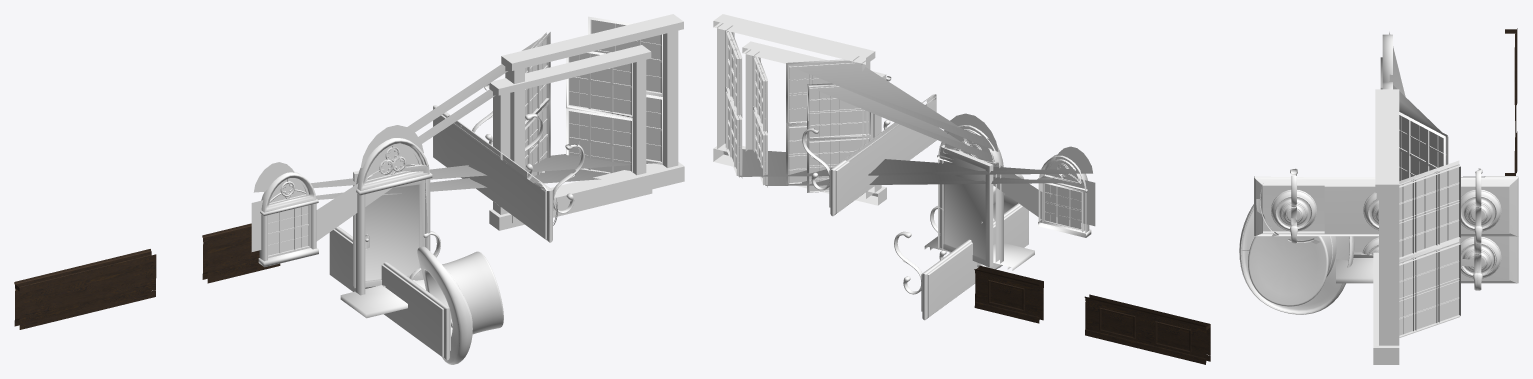
File: Church Window.fbx
The picture shows the model from 3 angles, left to right: view 1: azimuth 30°, elevation 25°; view 2: azimuth 150°, elevation 25°; view 3: azimuth 270°, elevation 25°; orthographic projection. The views are drawn at different scales.
Visible parts, largest first — view 1: Window, object_2, object_1, object_3, object_0.004, Walls.001, object_0, object_0.003, object_1.003, Window.001, Walls, object_1.002 (+1 smaller); view 2: object_3, object_2, Window, object_1.002, object_0.004, object_0, Walls.001, object_0.001, object_0.003, Walls, object_1, Window.001 (+4 smaller); view 3: Window, object_0, object_1, Glass3, Glass1, object_3, object_0.001, object_1.002, Window.001, Walls.001.
Part boxes in pixels (<box>): Window: <box>501,14,684,223</box>; object_2: <box>268,53,630,255</box>; object_1: <box>329,226,503,364</box>; object_3: <box>251,20,660,251</box>; object_0.004: <box>355,45,650,295</box>; Walls.001: <box>14,249,156,329</box>; object_0: <box>433,84,584,242</box>; object_0.003: <box>290,52,652,250</box>; object_1.003: <box>365,180,424,287</box>; Window.001: <box>258,171,318,267</box>; Walls: <box>202,223,280,283</box>; object_1.002: <box>340,164,428,318</box>; object_3: <box>737,61,1095,226</box>; object_2: <box>756,57,1081,229</box>; Window: <box>713,14,875,198</box>; object_1.002: <box>924,145,1034,270</box>; object_0.004: <box>742,41,1003,264</box>; object_0: <box>802,76,936,216</box>; Walls.001: <box>1084,294,1210,364</box>; object_0.001: <box>896,203,1028,318</box>; object_0.003: <box>743,48,1061,248</box>; Walls: <box>974,265,1043,323</box>; object_1: <box>894,174,1028,320</box>; Window.001: <box>1038,154,1091,237</box>; Window: <box>1373,89,1460,364</box>; object_0: <box>1254,168,1518,244</box>; object_1: <box>1239,204,1518,314</box>; Glass3: <box>1399,243,1460,337</box>; Glass1: <box>1399,164,1459,257</box>; object_3: <box>1389,32,1459,263</box>; object_0.001: <box>1354,236,1513,290</box>; object_1.002: <box>1336,252,1373,283</box>; Window.001: <box>1380,34,1392,89</box>; Walls.001: <box>1505,28,1517,136</box>.
Size of the model in its own units: 1478 by 574 by 519.
